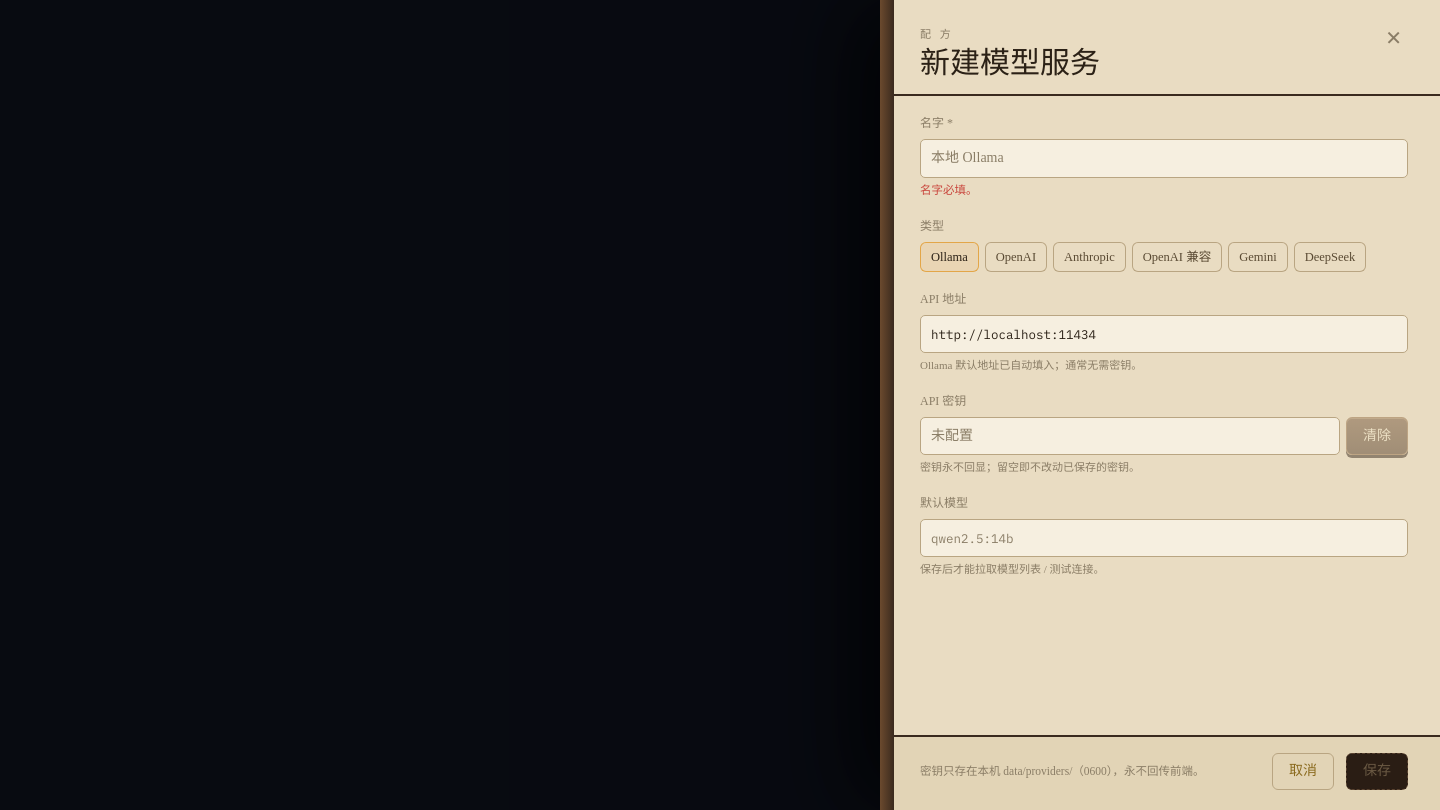
Test: ProviderEditor › DeepSeek 自动填官方地址
Click the button "DeepSeek".
click(1330, 257)  # box top-left (1294, 242), bottom-right (1366, 272)
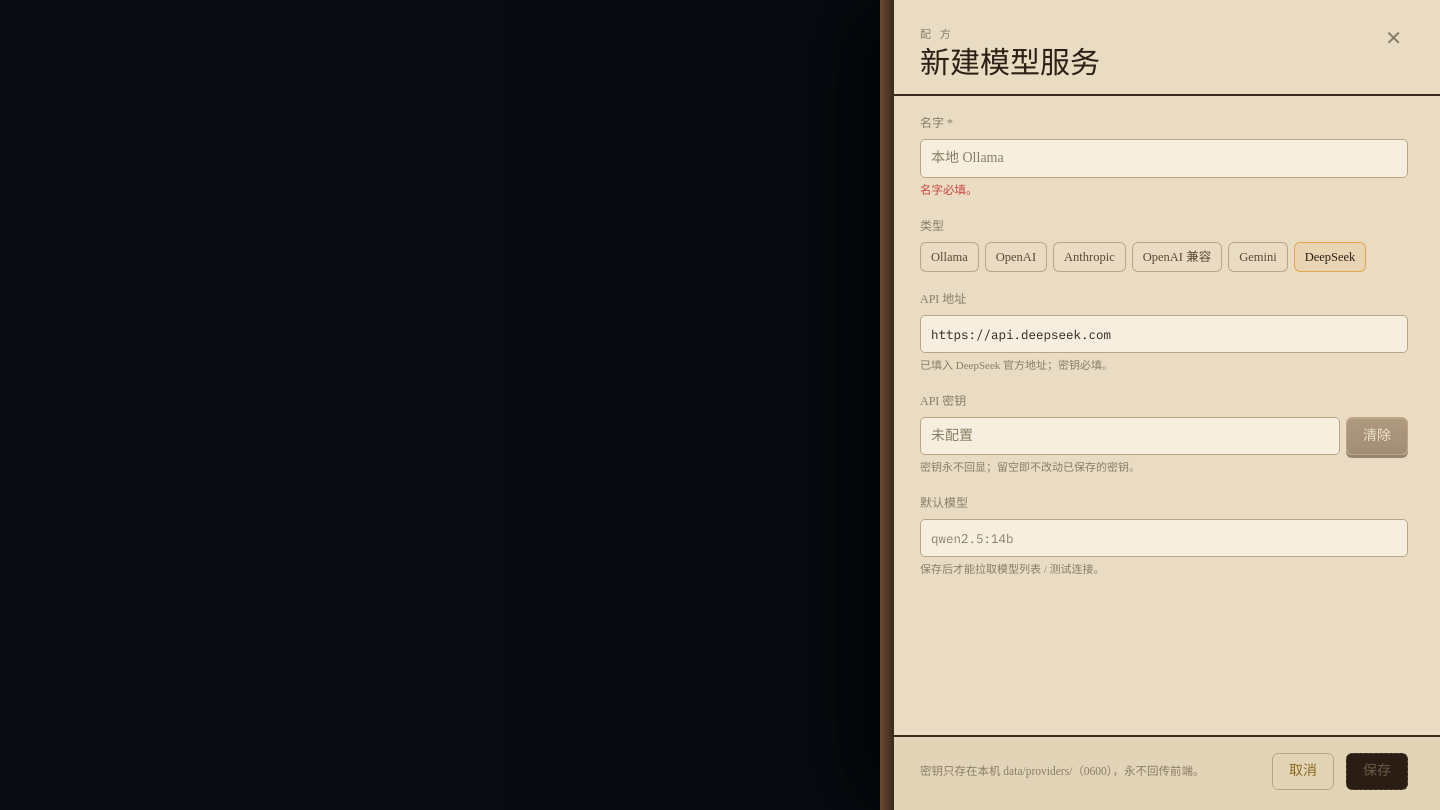
Now the field labelled "API 地址" holds "https://api.deepseek.com", box top-left (920, 315), bottom-right (1408, 353)
